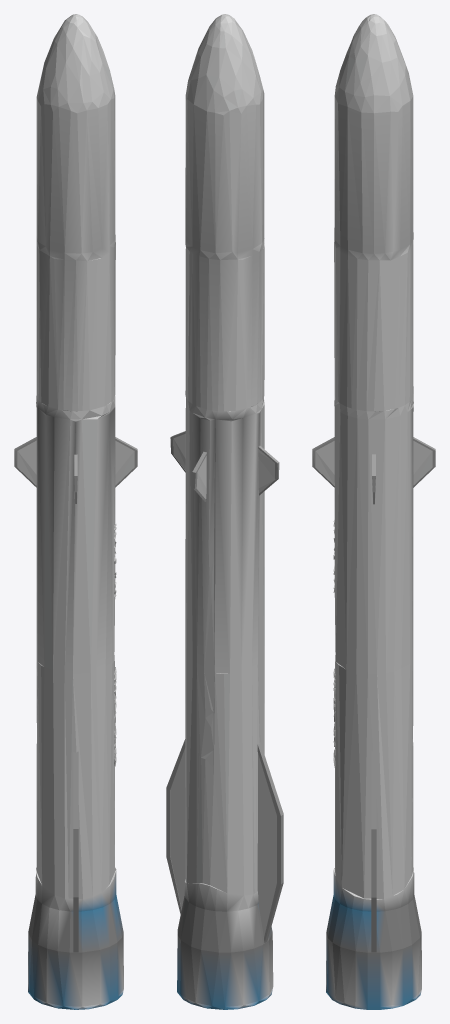
3 renders of one model, left to right at view 1: azimuth 90°, elevation 25°; view 2: azimuth 150°, elevation 25°; view 3: azimuth 270°, elevation 25°, orthographic.
Visible parts, largest first — view 1: Object_2; view 2: Object_2; view 3: Object_2.
Part boxes in pixels (bbox=[...]): Object_2: bbox=[14, 14, 137, 1009]; Object_2: bbox=[166, 14, 283, 1009]; Object_2: bbox=[312, 14, 435, 1009].
Bounding box in the file's own units: 118 × 959 × 110.
